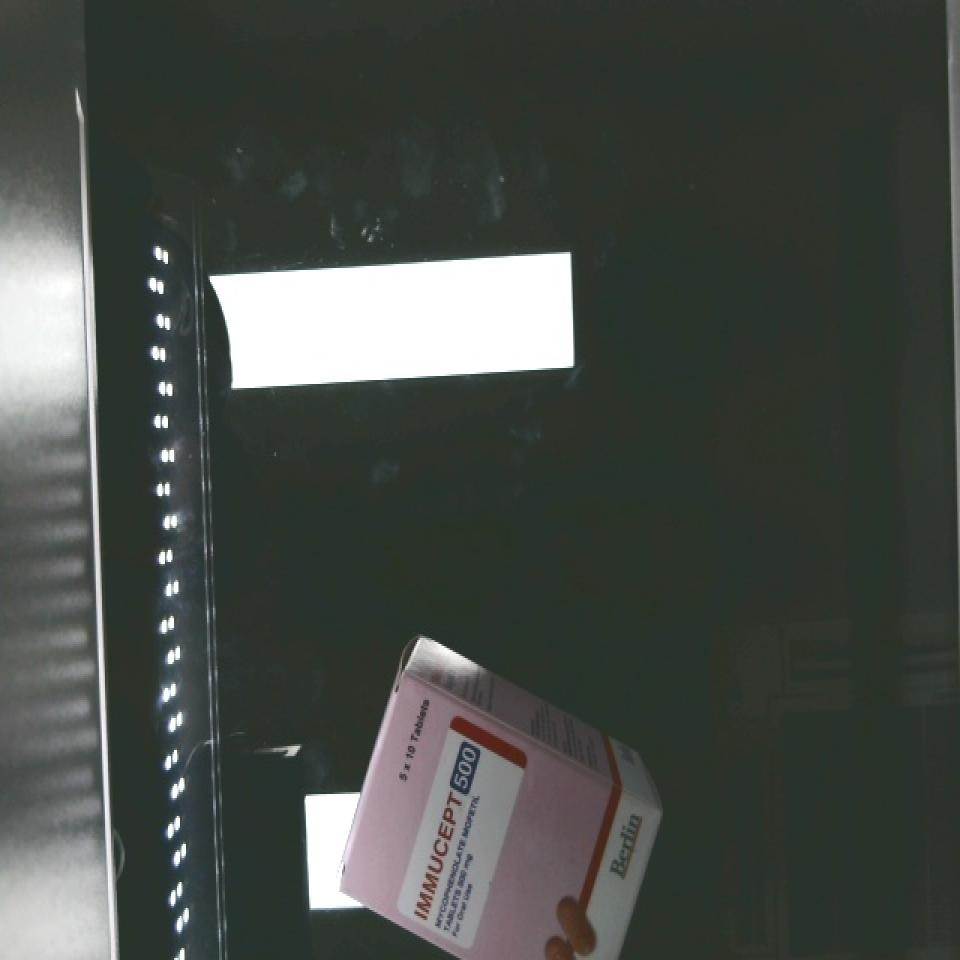medicine_box: (295, 672, 686, 960)
medicine_label_obb: (394, 720, 492, 939)
